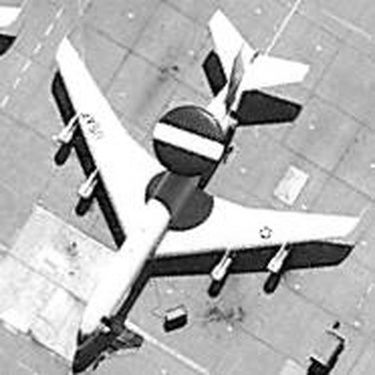airplane: (26, 1, 366, 367), (1, 1, 50, 45)
